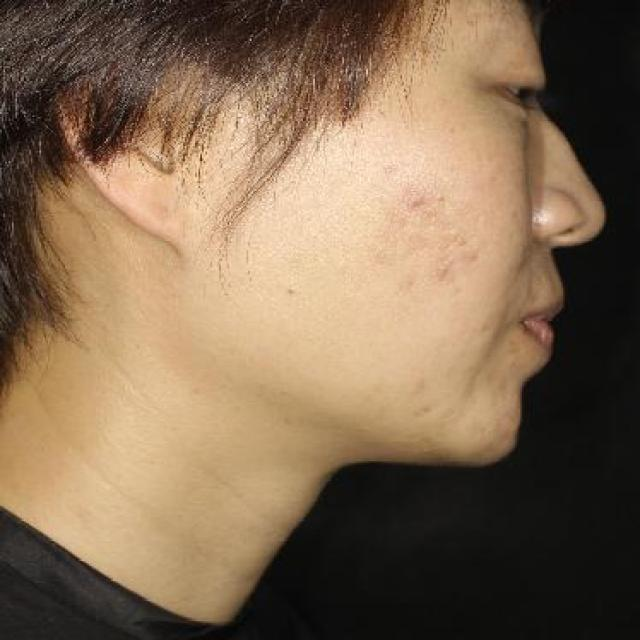blackheads: (433, 263, 450, 279)
dark spot: (401, 192, 426, 212), (378, 160, 399, 175)
whiteheads: (430, 186, 450, 205)
